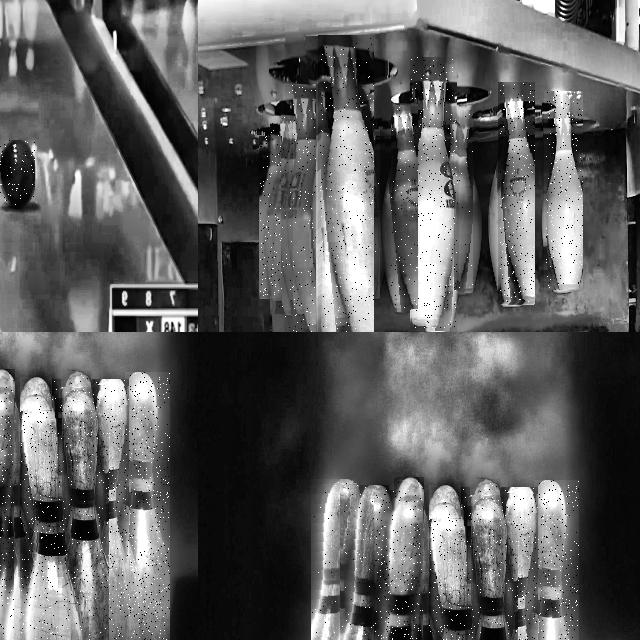bowling-ball: (0, 140, 35, 207)
bowling-pins: (320, 36, 373, 332), (20, 379, 68, 640), (411, 58, 457, 328), (125, 372, 170, 640), (61, 389, 106, 640), (94, 379, 128, 640), (285, 85, 316, 332), (500, 82, 534, 302), (342, 485, 389, 640), (311, 479, 356, 640), (546, 91, 582, 290), (430, 487, 468, 640), (534, 480, 570, 640), (385, 490, 423, 640), (391, 104, 417, 309), (503, 487, 534, 640), (470, 497, 503, 640), (270, 116, 293, 314), (260, 137, 281, 296), (360, 127, 379, 299), (456, 105, 472, 292), (20, 378, 51, 410), (429, 486, 460, 518), (63, 372, 90, 404), (472, 480, 499, 512), (396, 478, 423, 505), (0, 370, 14, 397)
